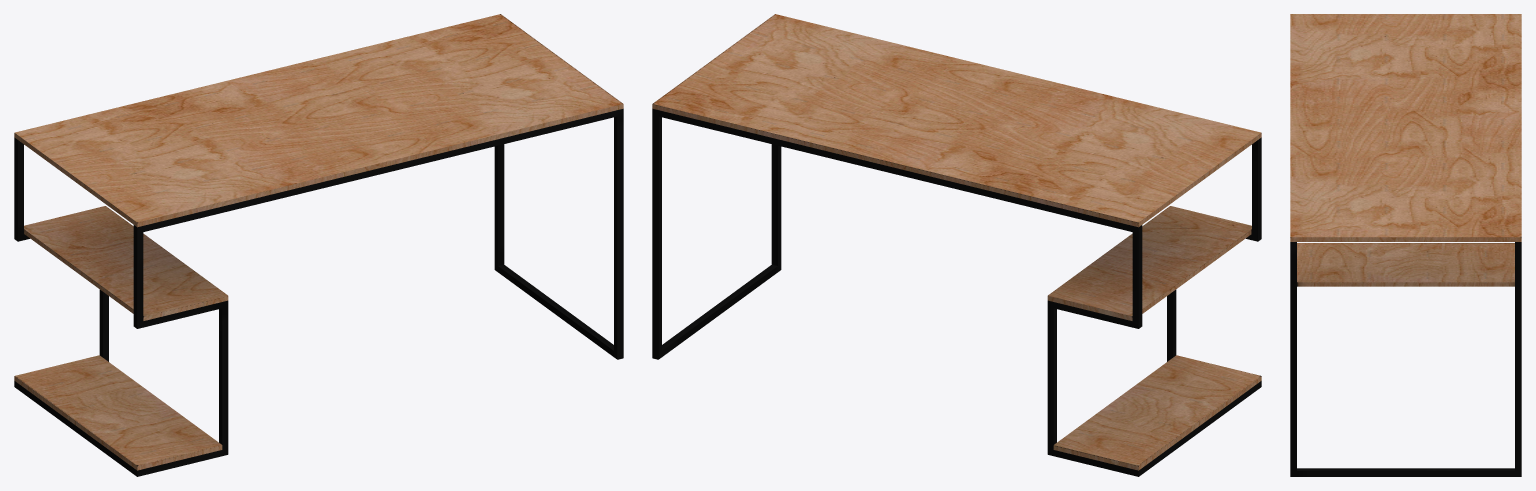
File: MesaLip3r.gltf
The picture shows the model from 3 angles, left to right: view 1: azimuth 30°, elevation 25°; view 2: azimuth 150°, elevation 25°; view 3: azimuth 270°, elevation 25°; orthographic projection. The views are drawn at different scales.
Parts seen in each view (by area): view 1: Body1 (Unsaved) Body1; view 2: Body1 (Unsaved) Body1; view 3: Body1 (Unsaved) Body1.
Part boxes in pixels (left/top/right/bottom): Body1 (Unsaved) Body1: left=14, top=14, right=623, bottom=476; Body1 (Unsaved) Body1: left=652, top=14, right=1261, bottom=476; Body1 (Unsaved) Body1: left=1290, top=14, right=1521, bottom=476.
Size of the model in its own units: 1.6 by 0.8 by 0.7.
Materials: 1 (1 with a texture image).
